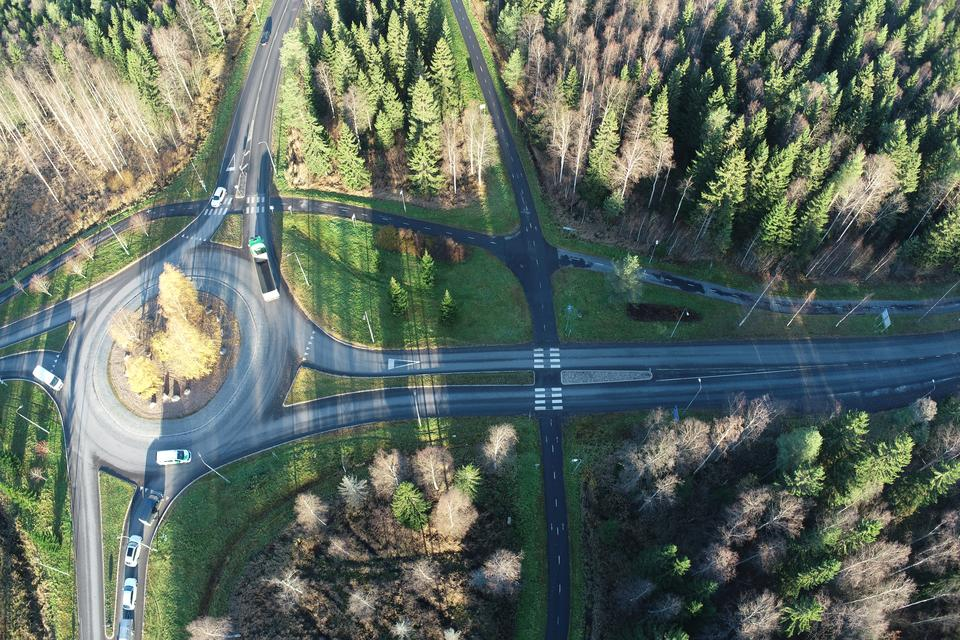intersection: (517, 325, 587, 446), (179, 184, 300, 228)
roundabout: (19, 234, 369, 540)
